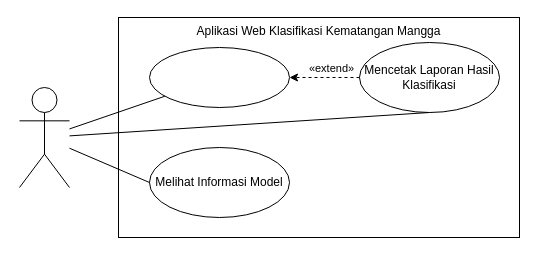
The diagram is 537 pixels wide and 255 high, and some of its shapes have lost their labels. The centre of each missing label's shape, as x and y in pixels:
Mengklasifikasikan Tingkat Kematangan Mangga: the point at 219,77
Pengguna: the point at 44,137
